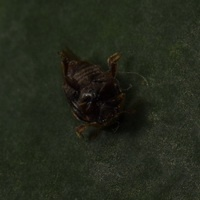insect: (59, 48, 147, 139)
